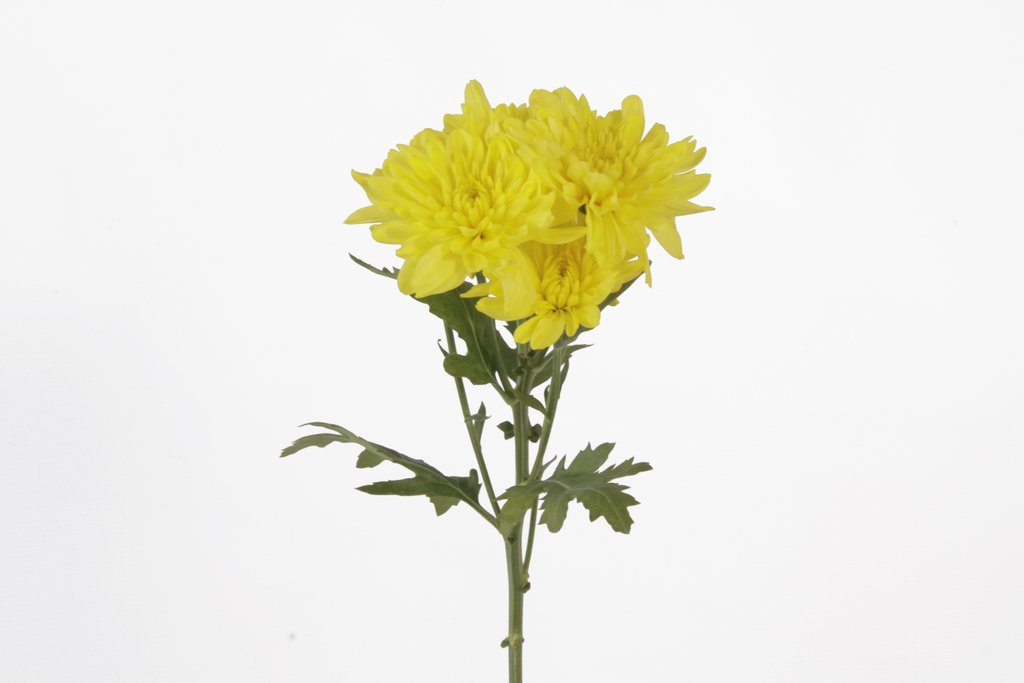dandelion: (388, 117, 666, 309)
